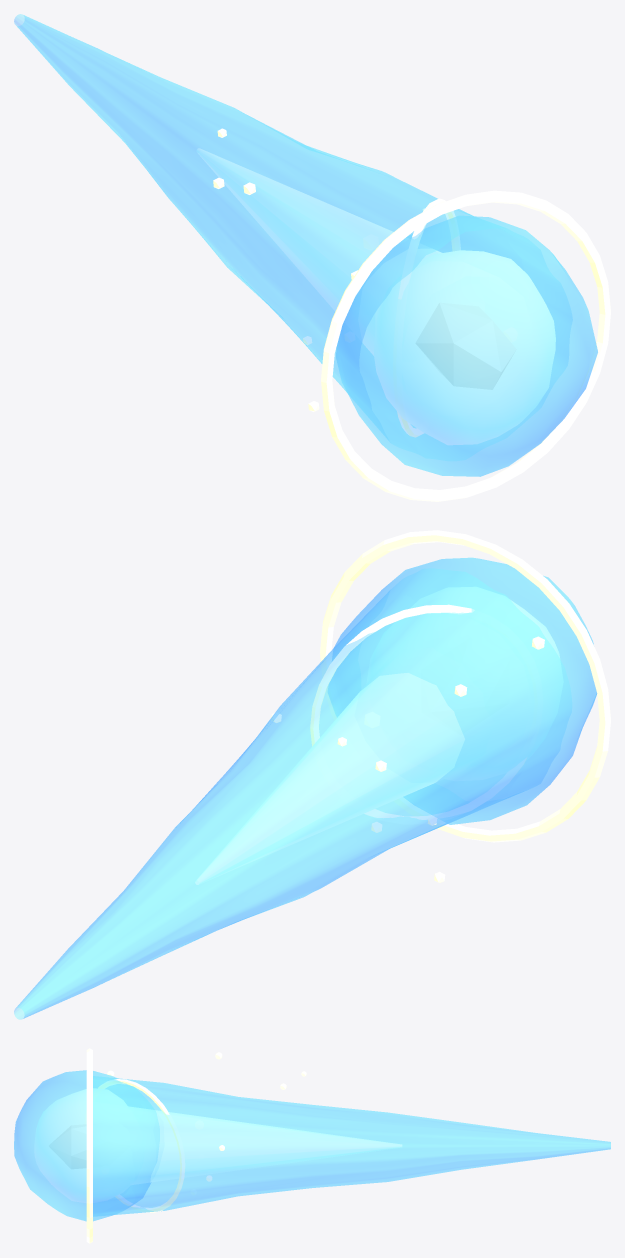
The model's file is LYRA_arcane_bolt_vfx.fbx.
3 renders of one model, top to bottom at view 1: azimuth 30°, elevation 25°; view 2: azimuth 150°, elevation 25°; view 3: azimuth 270°, elevation 25°, orthographic. The views are drawn at different scales.
Visible parts, largest first — view 1: LYRA_arcane_bolt_vfx; view 2: LYRA_arcane_bolt_vfx; view 3: LYRA_arcane_bolt_vfx.
Boxes of the visible parts, x1,y1,x2,y2 form: LYRA_arcane_bolt_vfx: (14, 14, 610, 501); LYRA_arcane_bolt_vfx: (14, 530, 610, 1019); LYRA_arcane_bolt_vfx: (14, 1048, 610, 1243).
Size of the model in its own units: 0.338 by 0.338 by 1.03.
